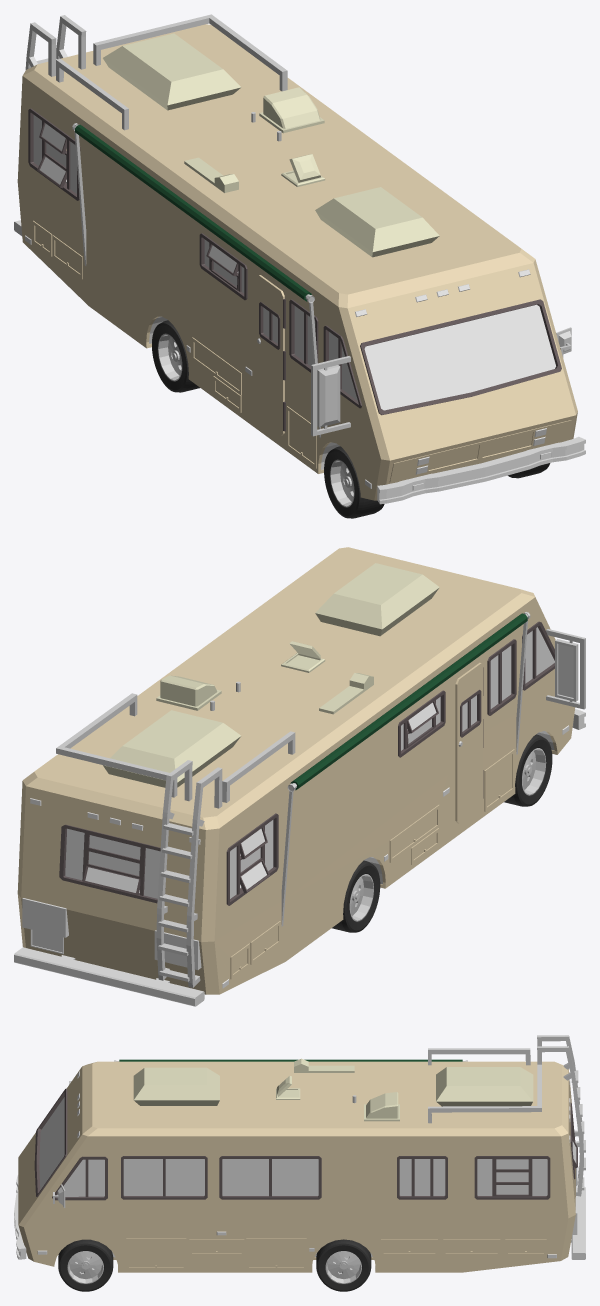
File: RVBreakingBad (1).fbx
3 renders of one model, top to bottom at view 1: azimuth 30°, elevation 25°; view 2: azimuth 150°, elevation 25°; view 3: azimuth 270°, elevation 25°, orthographic. The views are drawn at different scales.
Visible parts, largest first — view 1: Carroceria.001, ObjetosTecho, Vidrios, MarcosVentanas, Ruedas, ParachoquesDelantero, Puerta, Toldo, Retrovisores, Escalera, PuertasCajones.001, PuertasCajones.002 (+1 smaller); view 2: Carroceria.001, ObjetosTecho, Vidrios, MarcosVentanas, ParachoquesTrasero, Escalera, Ruedas, Toldo, Puerta, Retrovisores, PuertasCajones.001, PuertasCajones.002 (+1 smaller); view 3: Carroceria.001, Vidrios, ObjetosTecho, MarcosVentanas, Ruedas, Escalera, PuertasCajones.011, PuertasCajones.009, Toldo, ParachoquesTrasero, PuertasCajones.007, PuertasCajones.008 (+3 smaller).
Part boxes in pixels (x1,y1,x2,y2): Carroceria.001: (17, 24, 577, 500); ObjetosTecho: (56, 14, 439, 257); Vidrios: (33, 115, 555, 410); MarcosVentanas: (28, 108, 561, 415); Ruedas: (152, 320, 550, 518); ParachoquesDelantero: (377, 428, 585, 504); Puerta: (256, 275, 285, 435); Toldo: (72, 123, 320, 437); Retrovisores: (311, 327, 571, 436); Escalera: (25, 15, 86, 76); PuertasCajones.001: (289, 411, 314, 462); PuertasCajones.002: (194, 343, 239, 389); Carroceria.001: (17, 547, 575, 994); ObjetosTecho: (56, 563, 439, 802); Vidrios: (65, 627, 554, 898); MarcosVentanas: (59, 621, 554, 905); ParachoquesTrasero: (14, 898, 204, 1006); Escalera: (156, 760, 222, 987); Ruedas: (332, 734, 552, 932); Toldo: (281, 612, 530, 926); Puerta: (455, 662, 483, 823); Retrovisores: (546, 629, 585, 709); PuertasCajones.001: (487, 754, 512, 806); PuertasCajones.002: (392, 810, 436, 857); Carroceria.001: (18, 1061, 575, 1272); Vidrios: (39, 1097, 576, 1196); ObjetosTecho: (133, 1048, 541, 1123); MarcosVentanas: (34, 1088, 577, 1200); Ruedas: (58, 1239, 371, 1291); Escalera: (537, 1035, 585, 1196); PuertasCajones.011: (129, 1241, 183, 1267); PuertasCajones.009: (249, 1241, 303, 1267); Toldo: (114, 1059, 467, 1061); ParachoquesTrasero: (571, 1168, 585, 1259); PuertasCajones.007: (445, 1241, 497, 1253); PuertasCajones.008: (383, 1241, 435, 1253).
Size of the model in its own units: 357 by 340 by 922.
